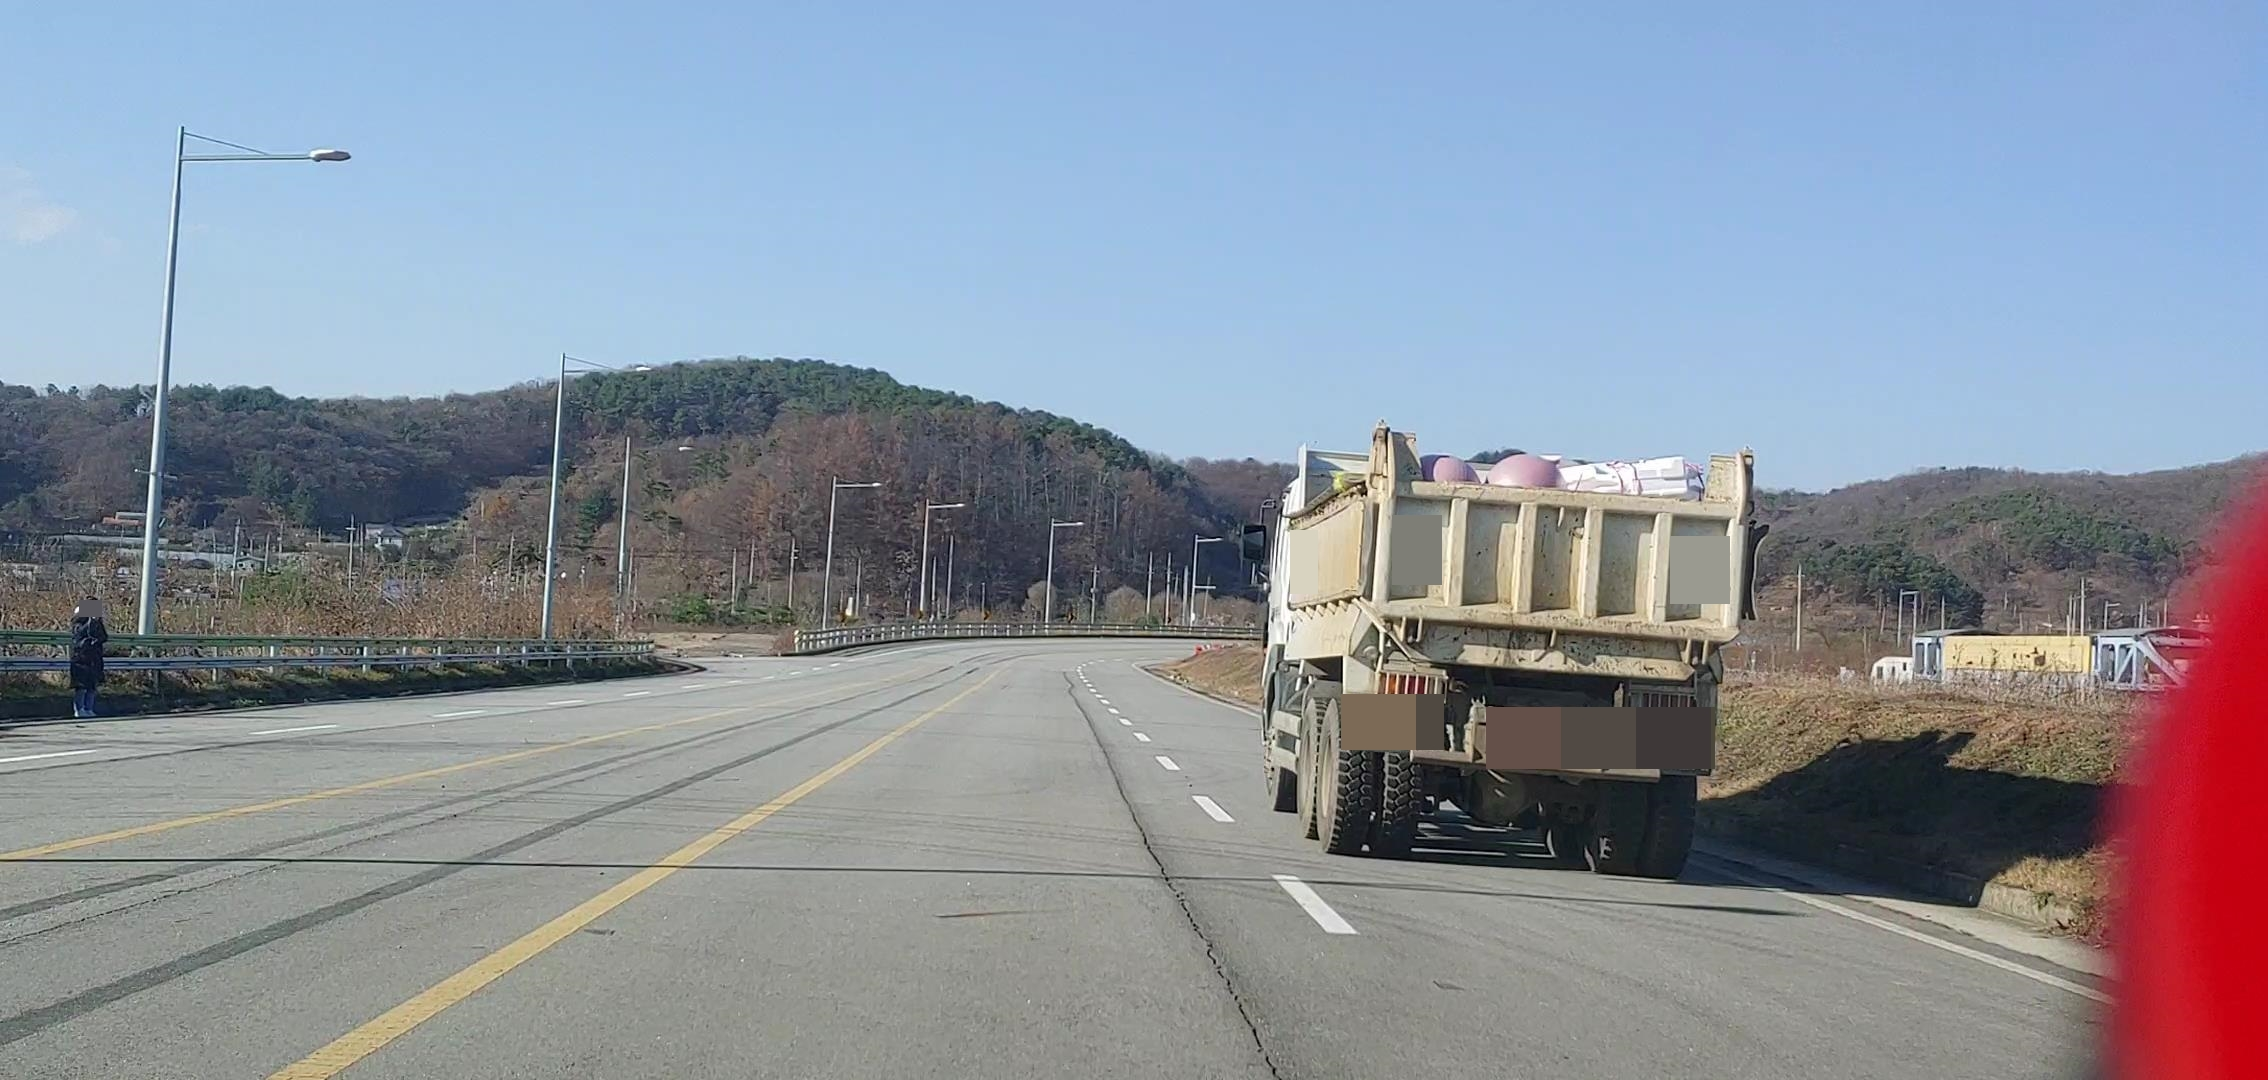불법차량: (1238, 418, 1770, 879)
